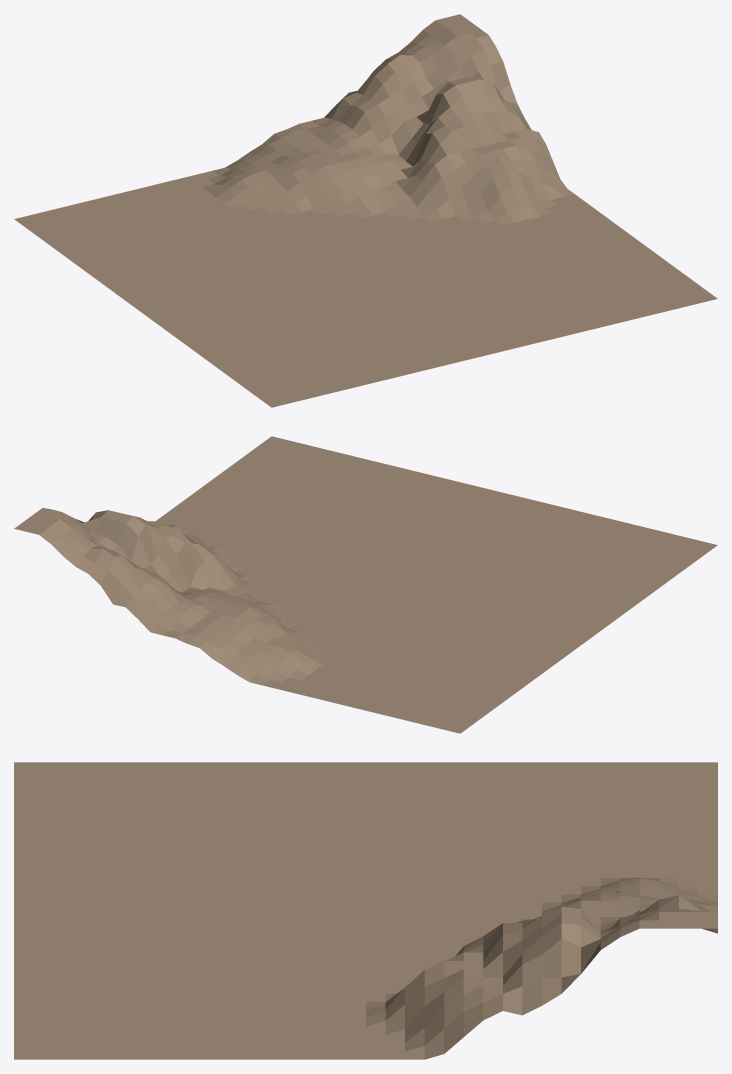
File: terrain2.fbx
3 views of the same model, one above another, from view 1: azimuth 30°, elevation 25°; view 2: azimuth 150°, elevation 25°; view 3: azimuth 270°, elevation 25° (orthographic). The views are drawn at different scales.
Parts seen in each view (by area): view 1: Grid; view 2: Grid; view 3: Grid.
Boxes of the visible parts, x1=… form: Grid: x1=14, y1=14, x2=717, y2=407; Grid: x1=14, y1=436, x2=717, y2=733; Grid: x1=14, y1=762, x2=717, y2=1059.
Bounding box in the file's own units: 1484 × 305 × 1484.
